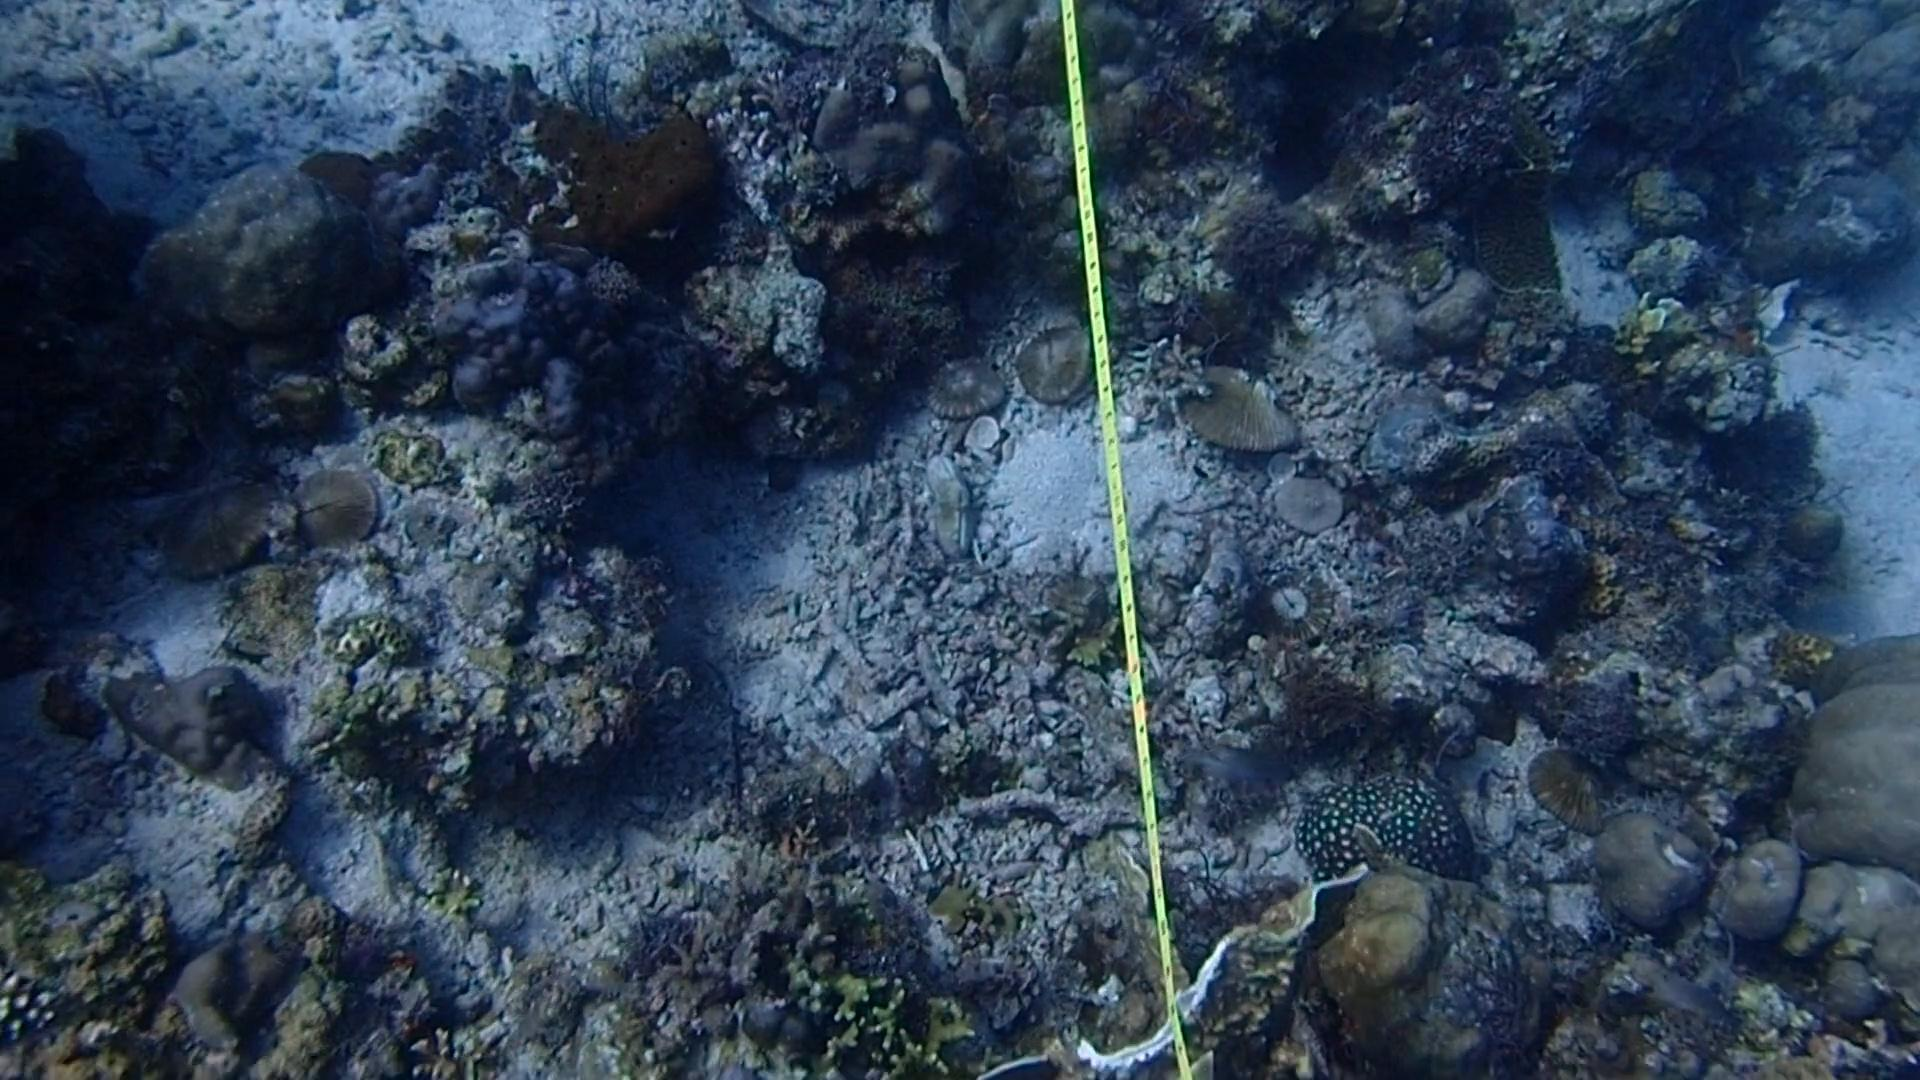Light Fish: (1172, 731, 1290, 800)
